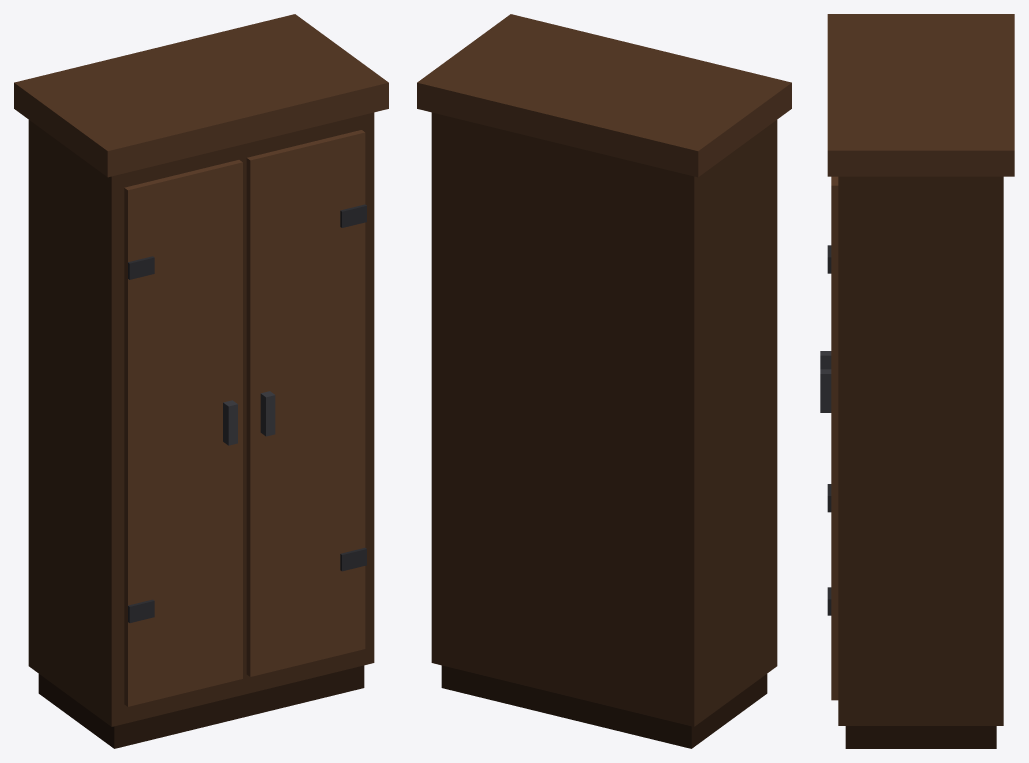
The model's file is cabinet.glb.
The picture shows the model from 3 angles, left to right: view 1: azimuth 30°, elevation 25°; view 2: azimuth 150°, elevation 25°; view 3: azimuth 270°, elevation 25°; orthographic projection.
Visible parts, largest first — view 1: cabinet; view 2: cabinet; view 3: cabinet.
Boxes of the visible parts, x1,y1,x2,y2 form: cabinet: (14, 14, 388, 748); cabinet: (417, 14, 791, 748); cabinet: (820, 14, 1014, 748).
Size of the model in its own units: 0.9 by 1.86 by 0.54.
